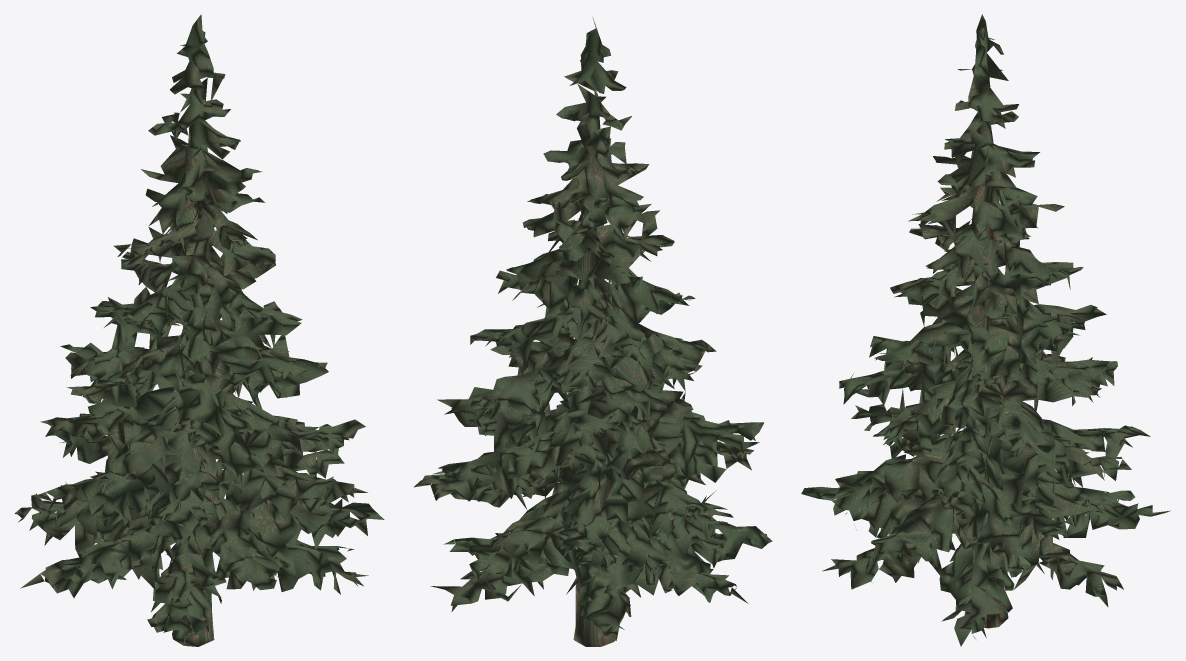
File: pine-tree.glb
3 renders of one model, left to right at view 1: azimuth 30°, elevation 25°; view 2: azimuth 150°, elevation 25°; view 3: azimuth 270°, elevation 25°, orthographic. The views are drawn at different scales.
Size of the model in its own units: 1.01 by 1.85 by 1.02.
Materials: 1 (1 with a texture image).
